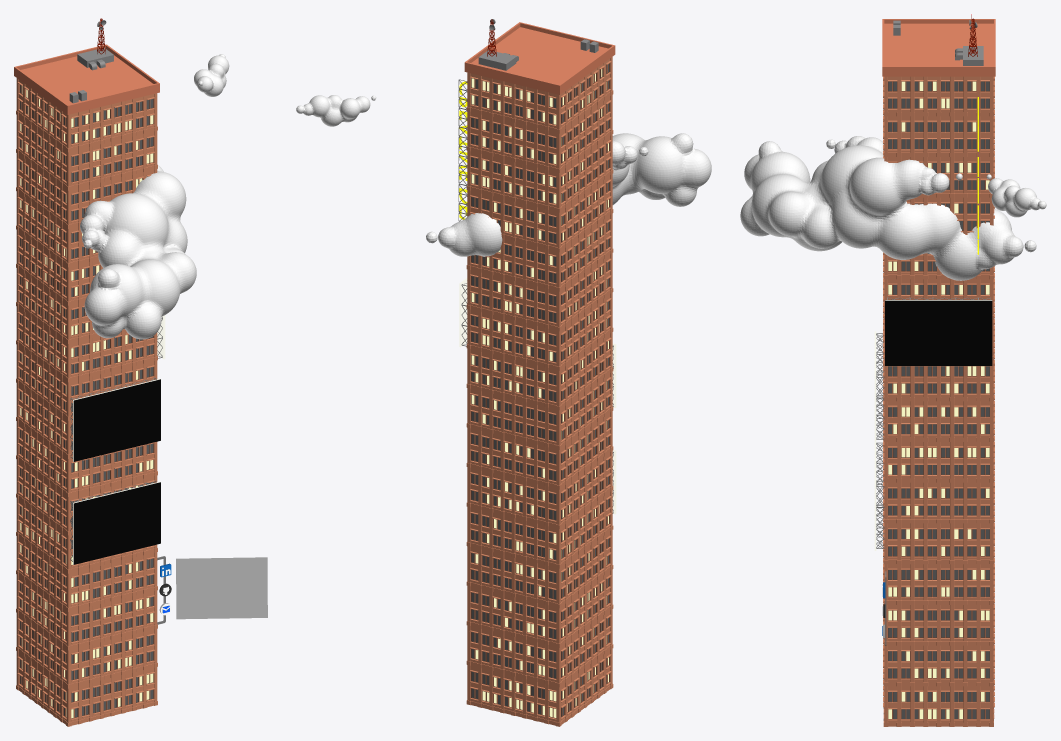
The picture shows the model from 3 angles, left to right: view 1: azimuth 30°, elevation 25°; view 2: azimuth 150°, elevation 25°; view 3: azimuth 270°, elevation 25°; orthographic projection. The views are drawn at different scales.
Visible parts, largest first — view 1: building, rest, Works, DPCTag; view 2: building, rest, Works; view 3: building, rest, Works.
Part boxes in pixels (box(x1,y1,x2,y2)): building: box(16, 78, 157, 726); rest: box(14, 18, 229, 624); Works: box(73, 315, 165, 564); DPCTag: box(176, 557, 267, 619); building: box(466, 57, 613, 726); rest: box(296, 19, 711, 513); Works: box(459, 278, 616, 514); building: box(883, 76, 994, 726); rest: box(740, 15, 1046, 645); Works: box(874, 300, 992, 550).
Bounding box in the file's own units: 1.51 × 3.57 × 1.4.
